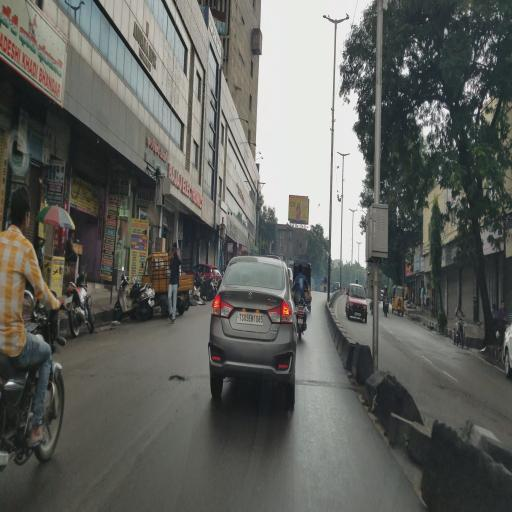street_light_0: (315, 9, 335, 29), (334, 11, 353, 31), (342, 144, 352, 164), (333, 144, 342, 164), (346, 198, 354, 212), (352, 203, 361, 215)
